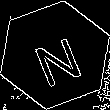N_N: (26, 24, 84, 86)
